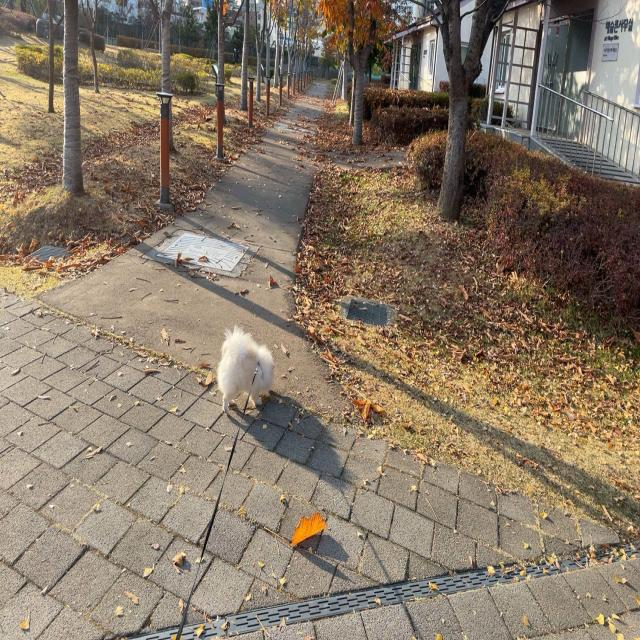Dog: (216, 322, 276, 416)
